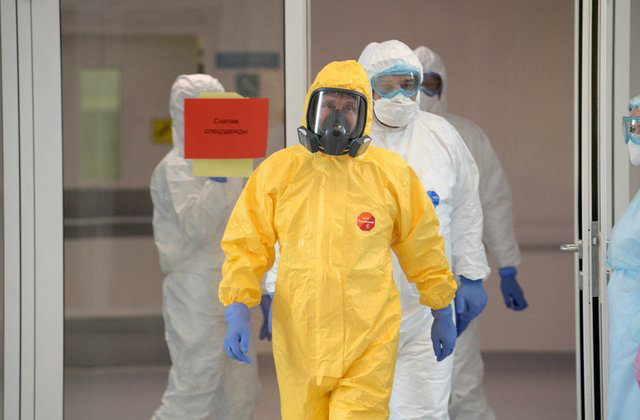Coverall: (220, 58, 457, 420), (149, 69, 251, 420)
Gloves: (219, 294, 254, 362), (455, 275, 488, 337), (426, 301, 457, 365), (496, 264, 530, 314)
Goggles: (372, 67, 420, 97)
with_mask: (298, 87, 370, 159), (373, 92, 419, 131)
